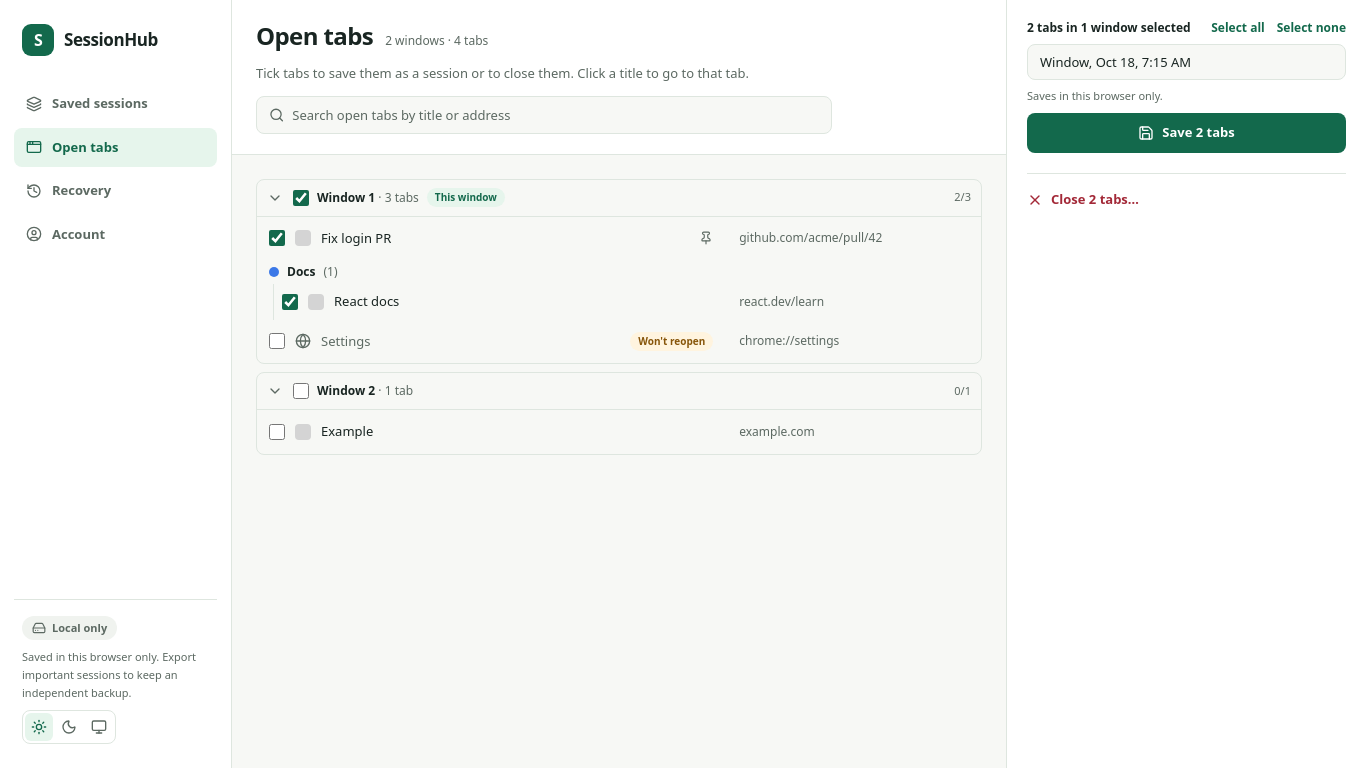
save picker › opens with this window ticked (browser pages unticked) and saves exactly what the user ticked, under their name
Expected: the checkbox labelled "Window 1 · 3 tabs This window" is checked, [293,190,309,206]
Expected: the checkbox labelled "Window 2 · 1 tab" is not checked, [293,383,309,399]
Step 1. Click the checkbox named "React docs" in the row of "react.dev/learn" → x=290, y=302, box [282,294,298,310]
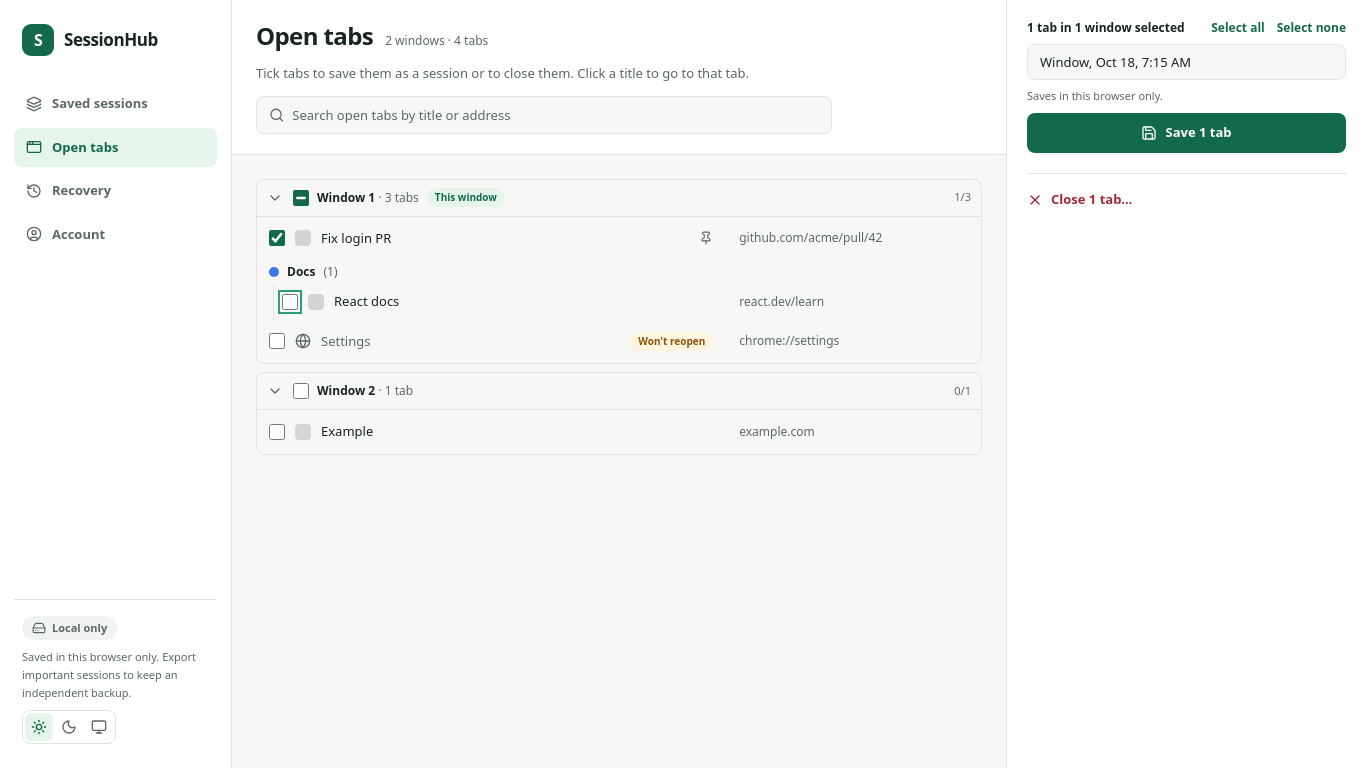
Step 2. Click the checkbox labelled "Window 2 · 1 tab" → x=301, y=391, box [293,383,309,399]
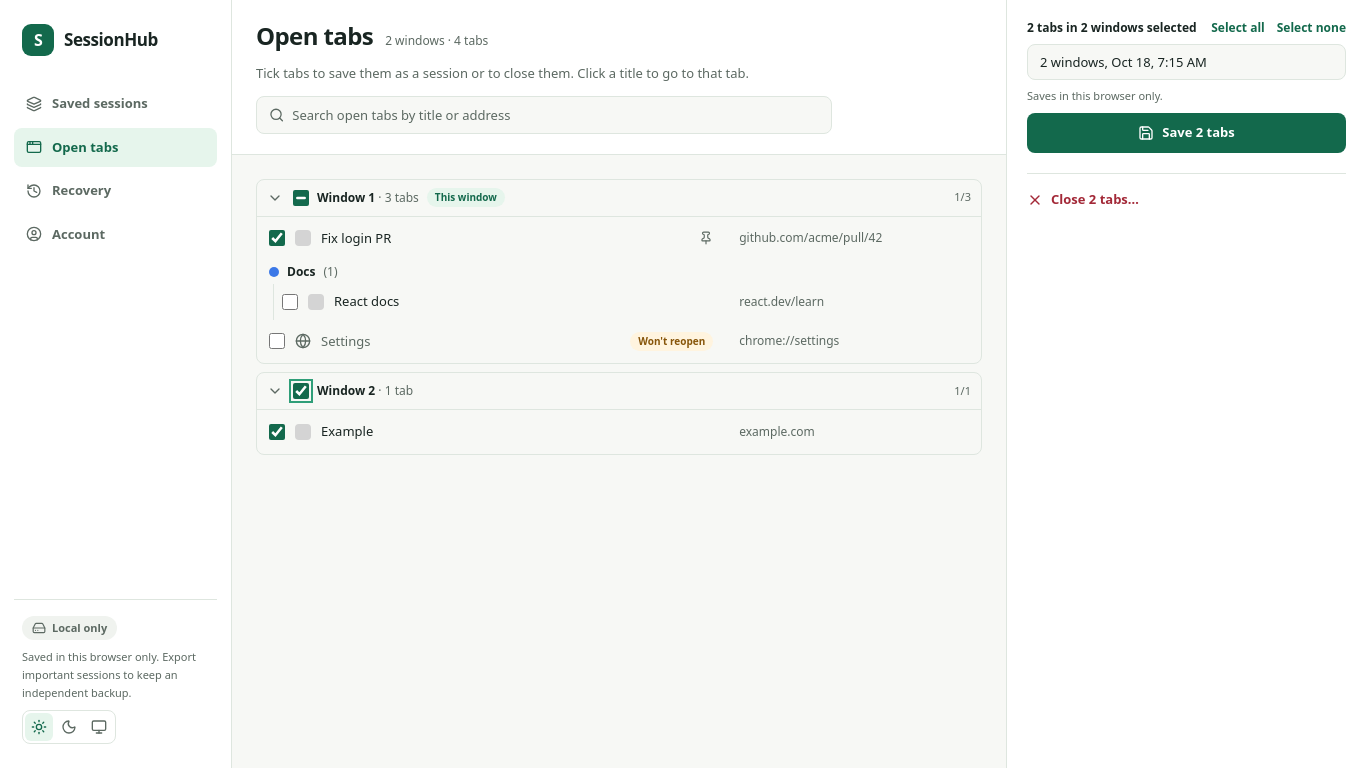
Expected: the text "2 tabs in 2 windows selected" is shown, [1027,20,1197,36]
Step 3. Replace the text in the field named "Session name" with "Picked by hand" → x=1186, y=62, box [1027,44,1346,80]
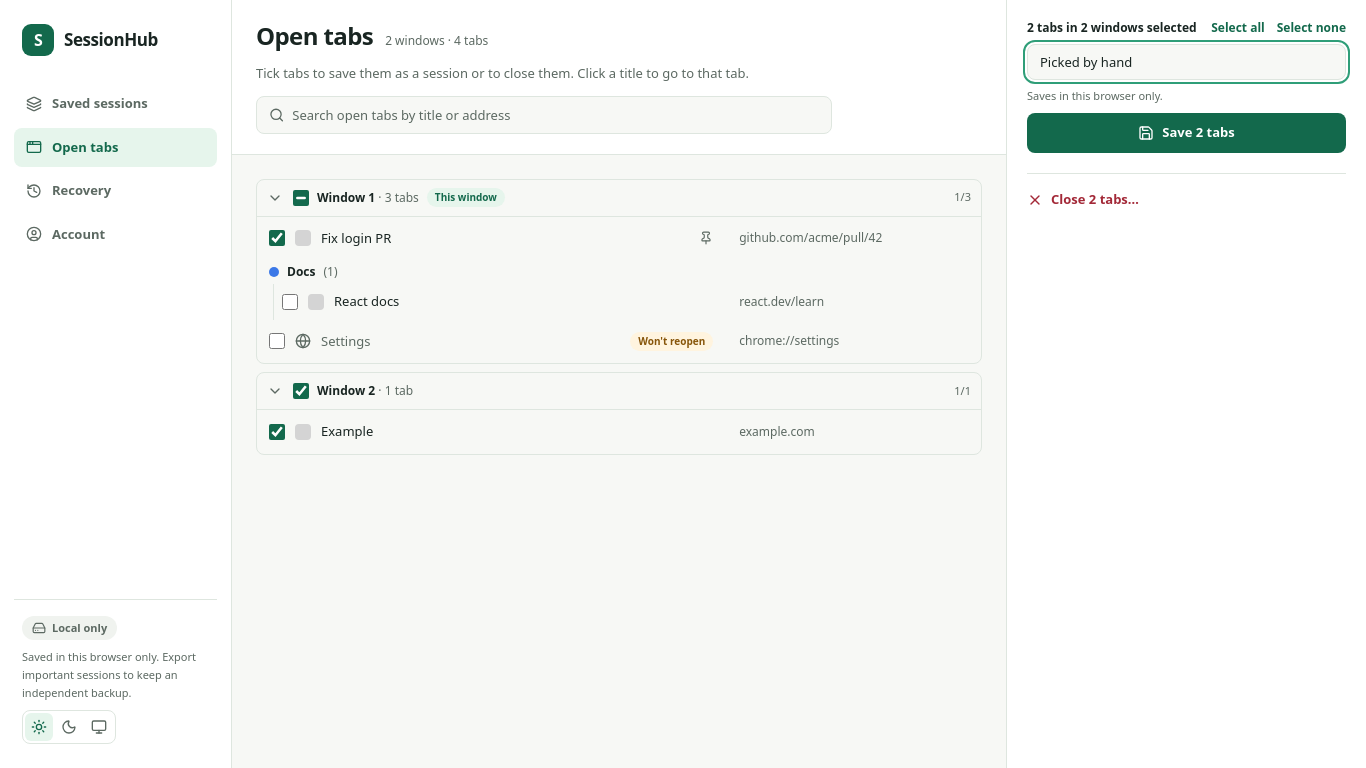
Step 4. Click the button "Save 2 tabs" → x=1186, y=132, box [1027,112,1346,152]
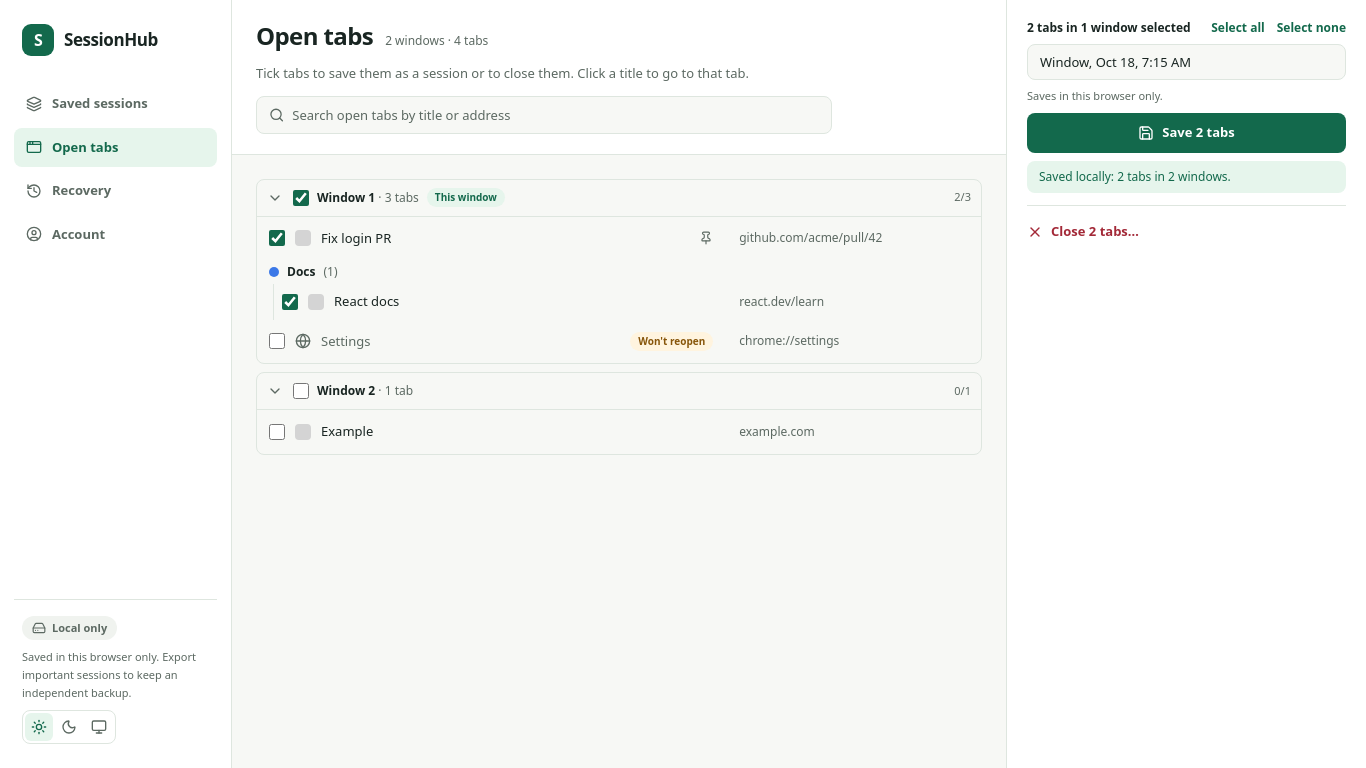
Expected: the text "Saved locally: 2 tabs in 2 windows." is shown, [1027,160,1346,192]
Expected: the checkbox labelled "Window 1 · 3 tabs This window" is checked, [293,190,309,206]
